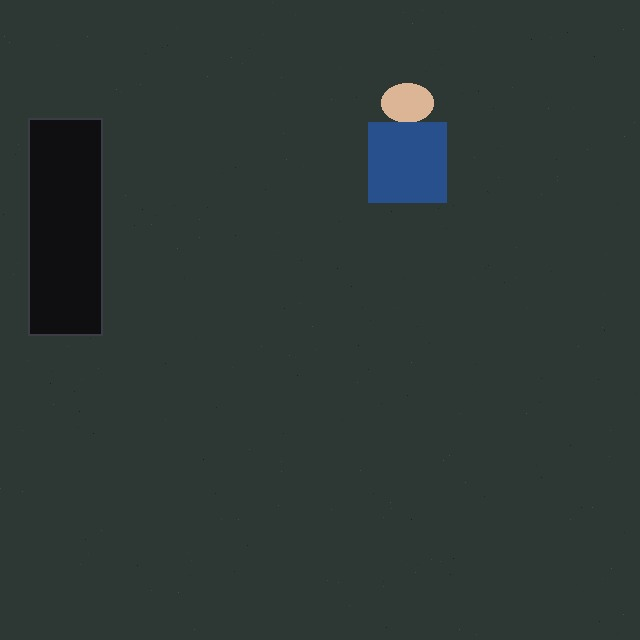person: (329, 83, 486, 202)
phone: (28, 118, 176, 335)
